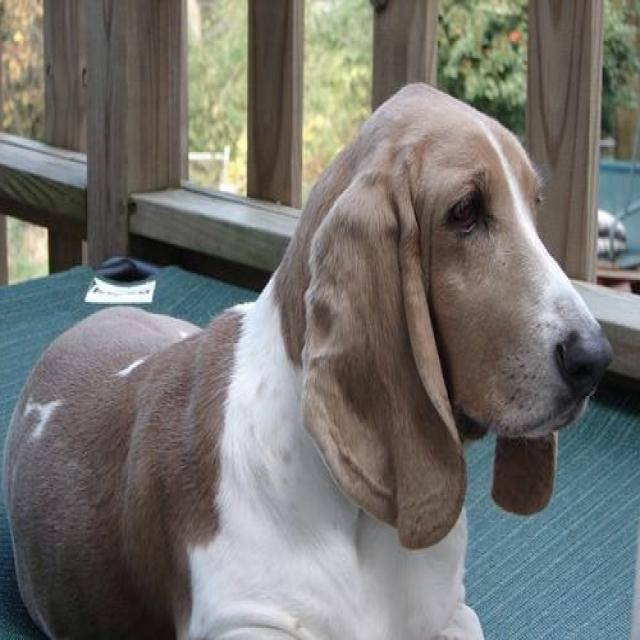basset: (2, 79, 616, 638)
